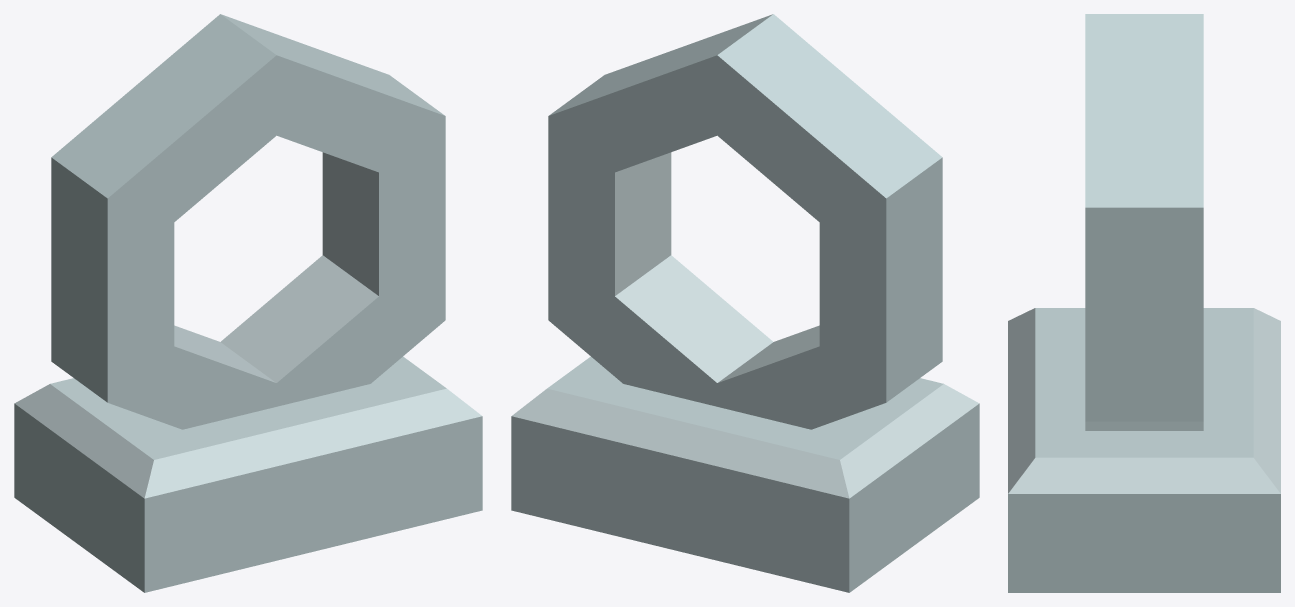
File: stone_ring.glb
The picture shows the model from 3 angles, left to right: view 1: azimuth 30°, elevation 25°; view 2: azimuth 150°, elevation 25°; view 3: azimuth 270°, elevation 25°; orthographic projection. The views are drawn at different scales.
Parts seen in each view (by area): view 1: statue_ring; view 2: statue_ring; view 3: statue_ring.
Part boxes in pixels (x1,y1,x2,y2): statue_ring: [14, 14, 482, 592]; statue_ring: [511, 14, 979, 592]; statue_ring: [1008, 14, 1280, 592].
Size of the model in its own units: 0.6 by 0.7964 by 0.4.
